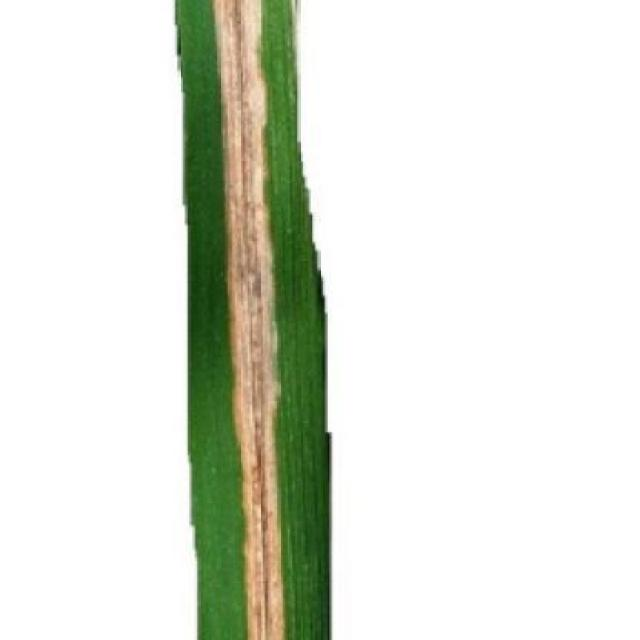Brown_Spot: (170, 0, 336, 640)
